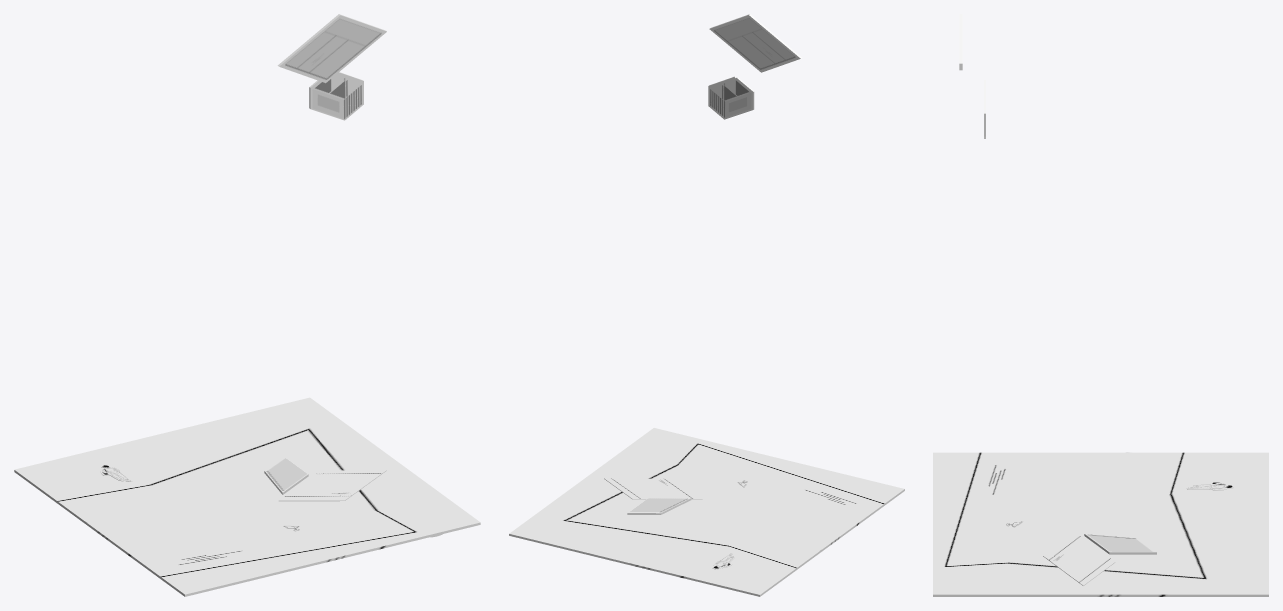
The picture shows the model from 3 angles, left to right: view 1: azimuth 30°, elevation 25°; view 2: azimuth 150°, elevation 25°; view 3: azimuth 270°, elevation 25°; orthographic projection. The views are drawn at different scales.
Parts seen in each view (by area): view 1: 平面, Curve.015, Curve.004, Curve.009, Curve.003; view 2: 平面, Curve.015, Curve.009, Curve.004, Curve.003; view 3: 平面, Curve.004, Curve.003.
Boxes of the visible parts, left/top/right/bottom form: 平面: left=14, top=397, right=480, bottom=596; Curve.015: left=277, top=14, right=386, bottom=83; Curve.004: left=279, top=470, right=386, bottom=501; Curve.009: left=309, top=72, right=363, bottom=120; Curve.003: left=264, top=456, right=308, bottom=494; 平面: left=509, top=428, right=904, bottom=596; Curve.015: left=709, top=14, right=801, bottom=72; Curve.009: left=708, top=76, right=754, bottom=119; Curve.004: left=604, top=478, right=702, bottom=499; Curve.003: left=627, top=498, right=691, bottom=514; 平面: left=933, top=452, right=1268, bottom=596; Curve.004: left=1043, top=532, right=1115, bottom=585; Curve.003: left=1084, top=533, right=1156, bottom=554.
Bounding box in the file's own units: 0.4495 × 0.7939 × 0.4495.
Materials: 22 (22 with a texture image).
